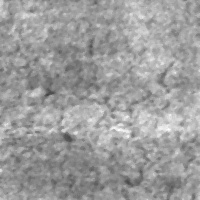crazing: (25, 38, 150, 189), (144, 52, 197, 197)
